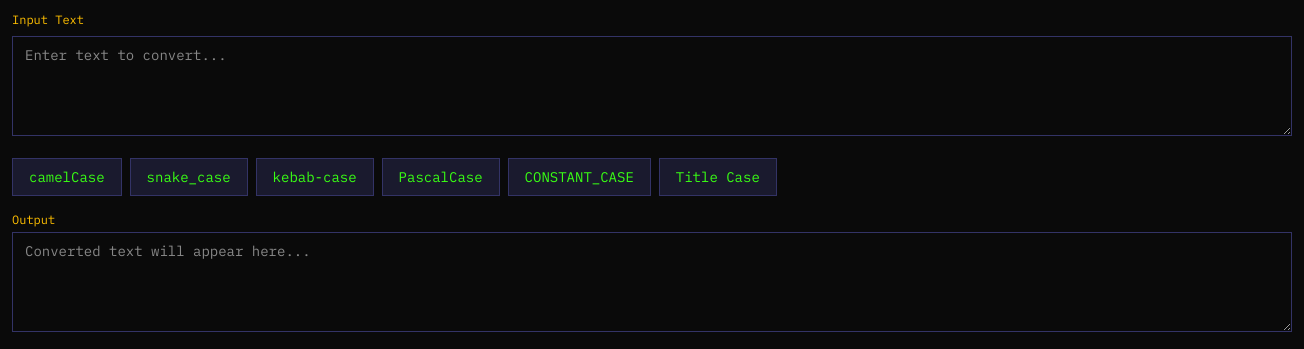
Test case: CaseConverter › converts to snake_case when button is clicked
In the text box labelled "Input Text": (652, 86) [12,36,1292,136], type "helloWorld"
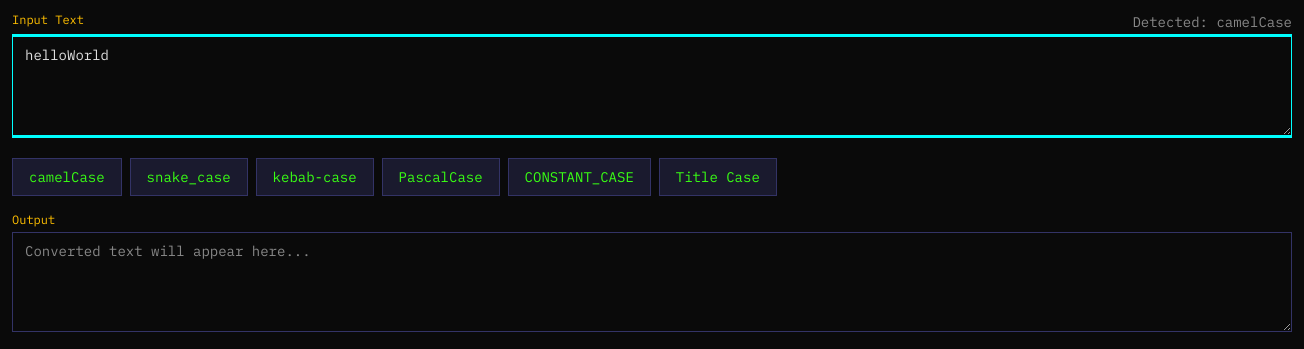
Click the button "snake_case": (189, 177) [130,158,248,196]
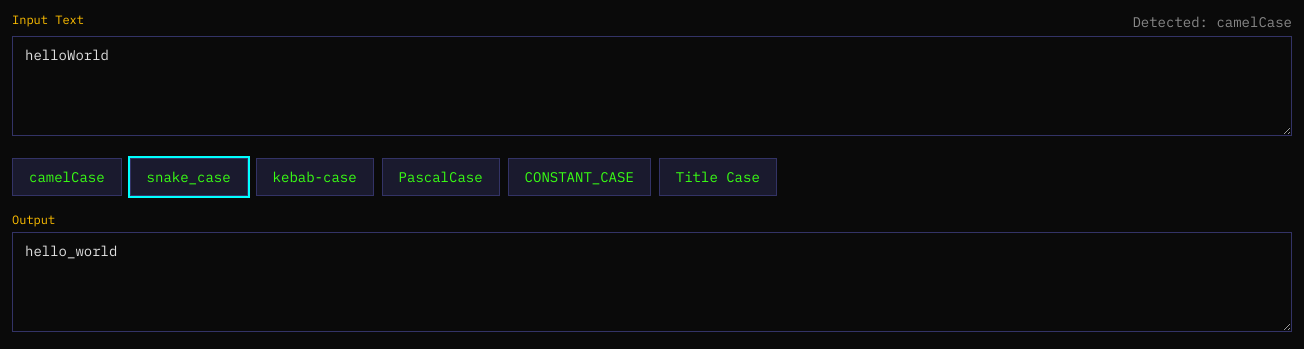
Result: the text box labelled "Output" holds "hello_world" at [12,232,1292,332]
